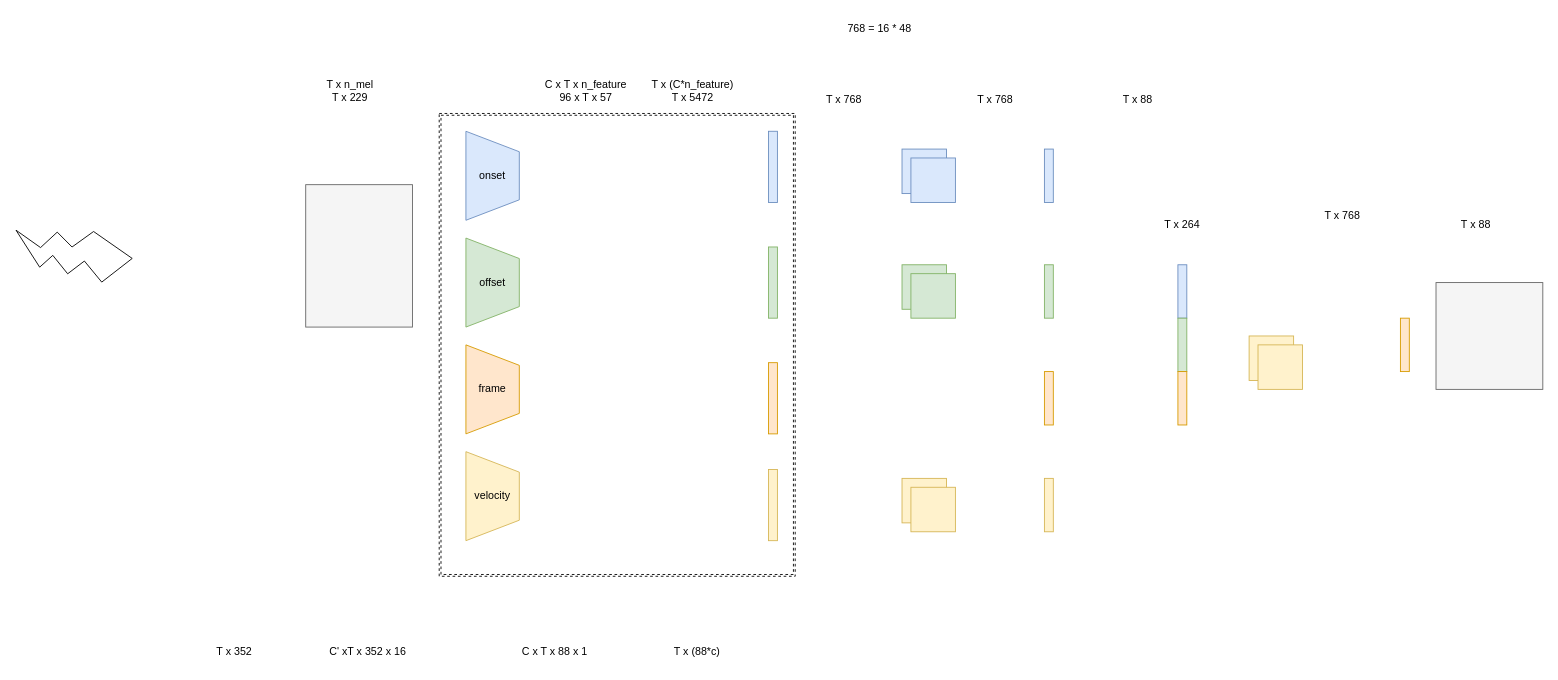
The diagram is 1558 pixels wide and 680 high, and some of its shapes have lost their labels. Each missing label, with the centre of its shape:
mel specgram: pixel 359 255
pred note: pixel 1489 335
